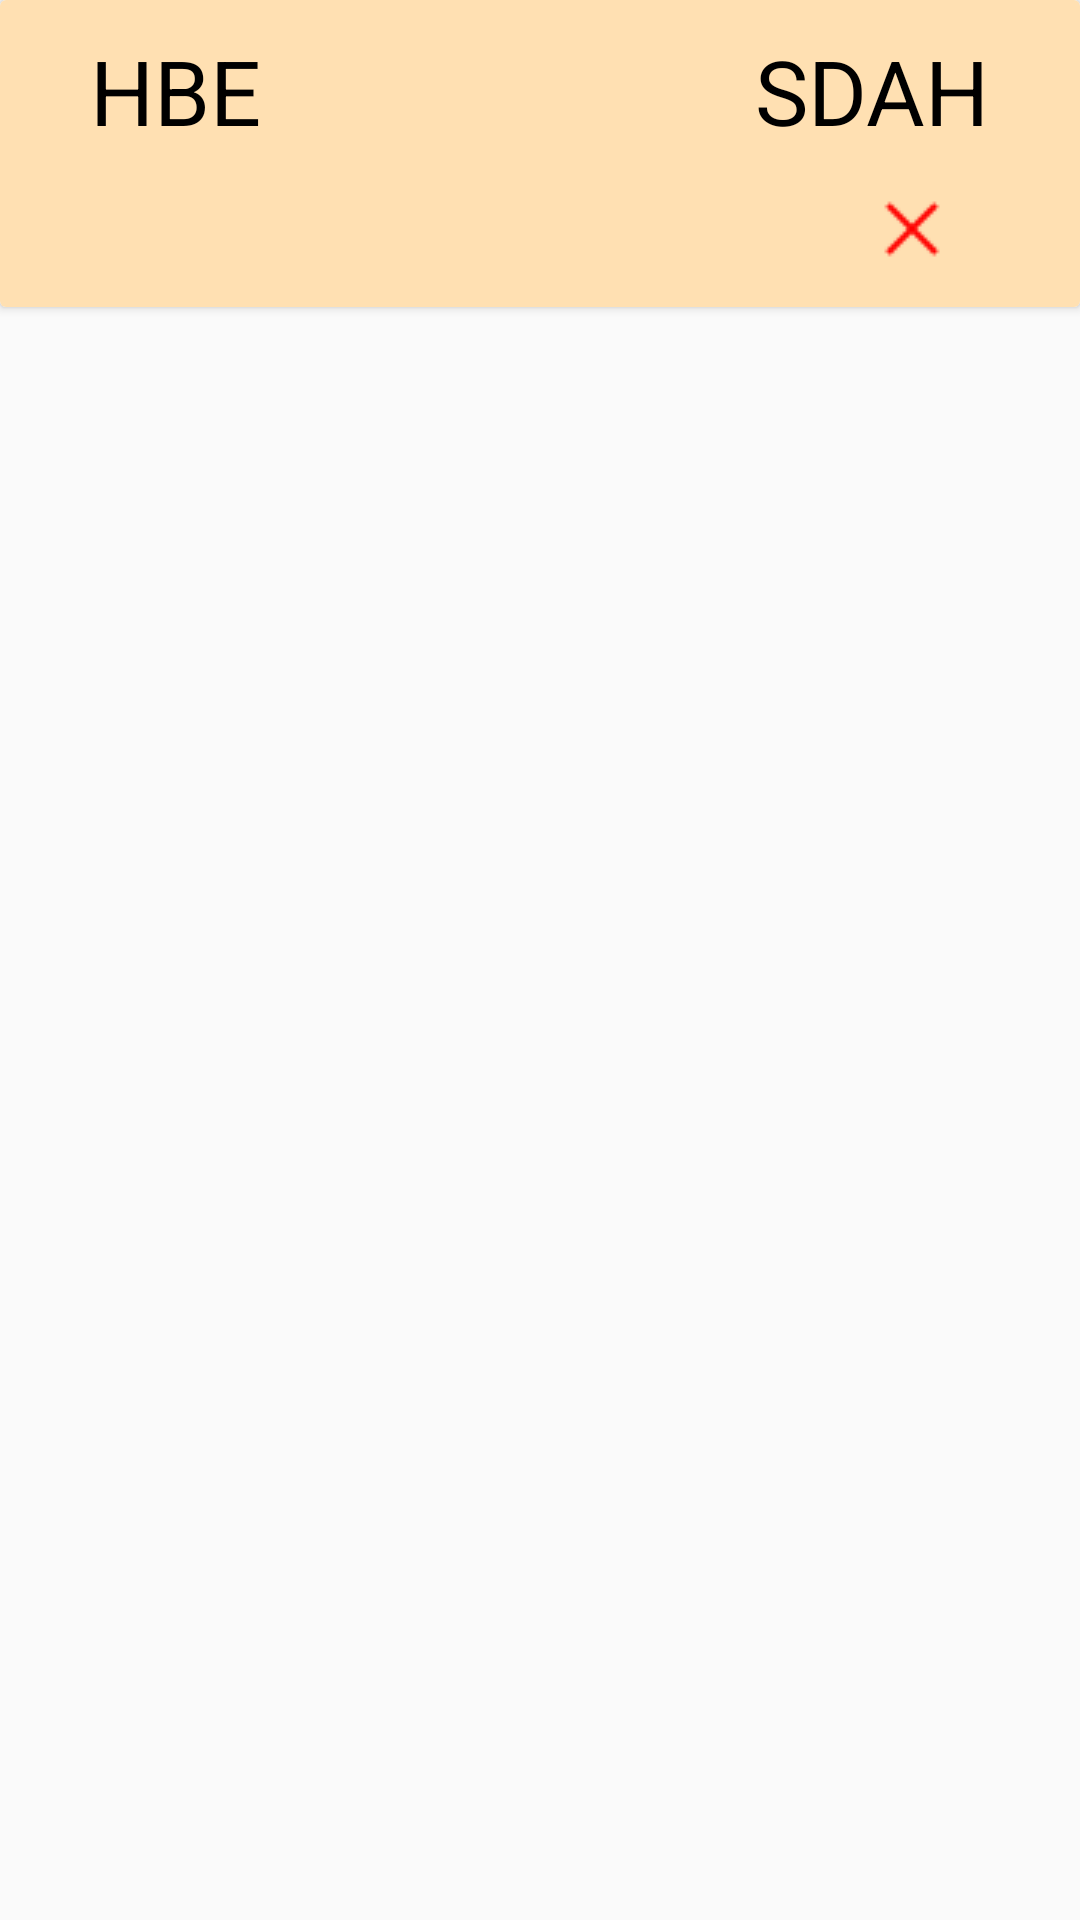

Icon click points for this 1080×1920 phone screenshot, format (x=x, y=y):
deletemarker: (x=912, y=229)
